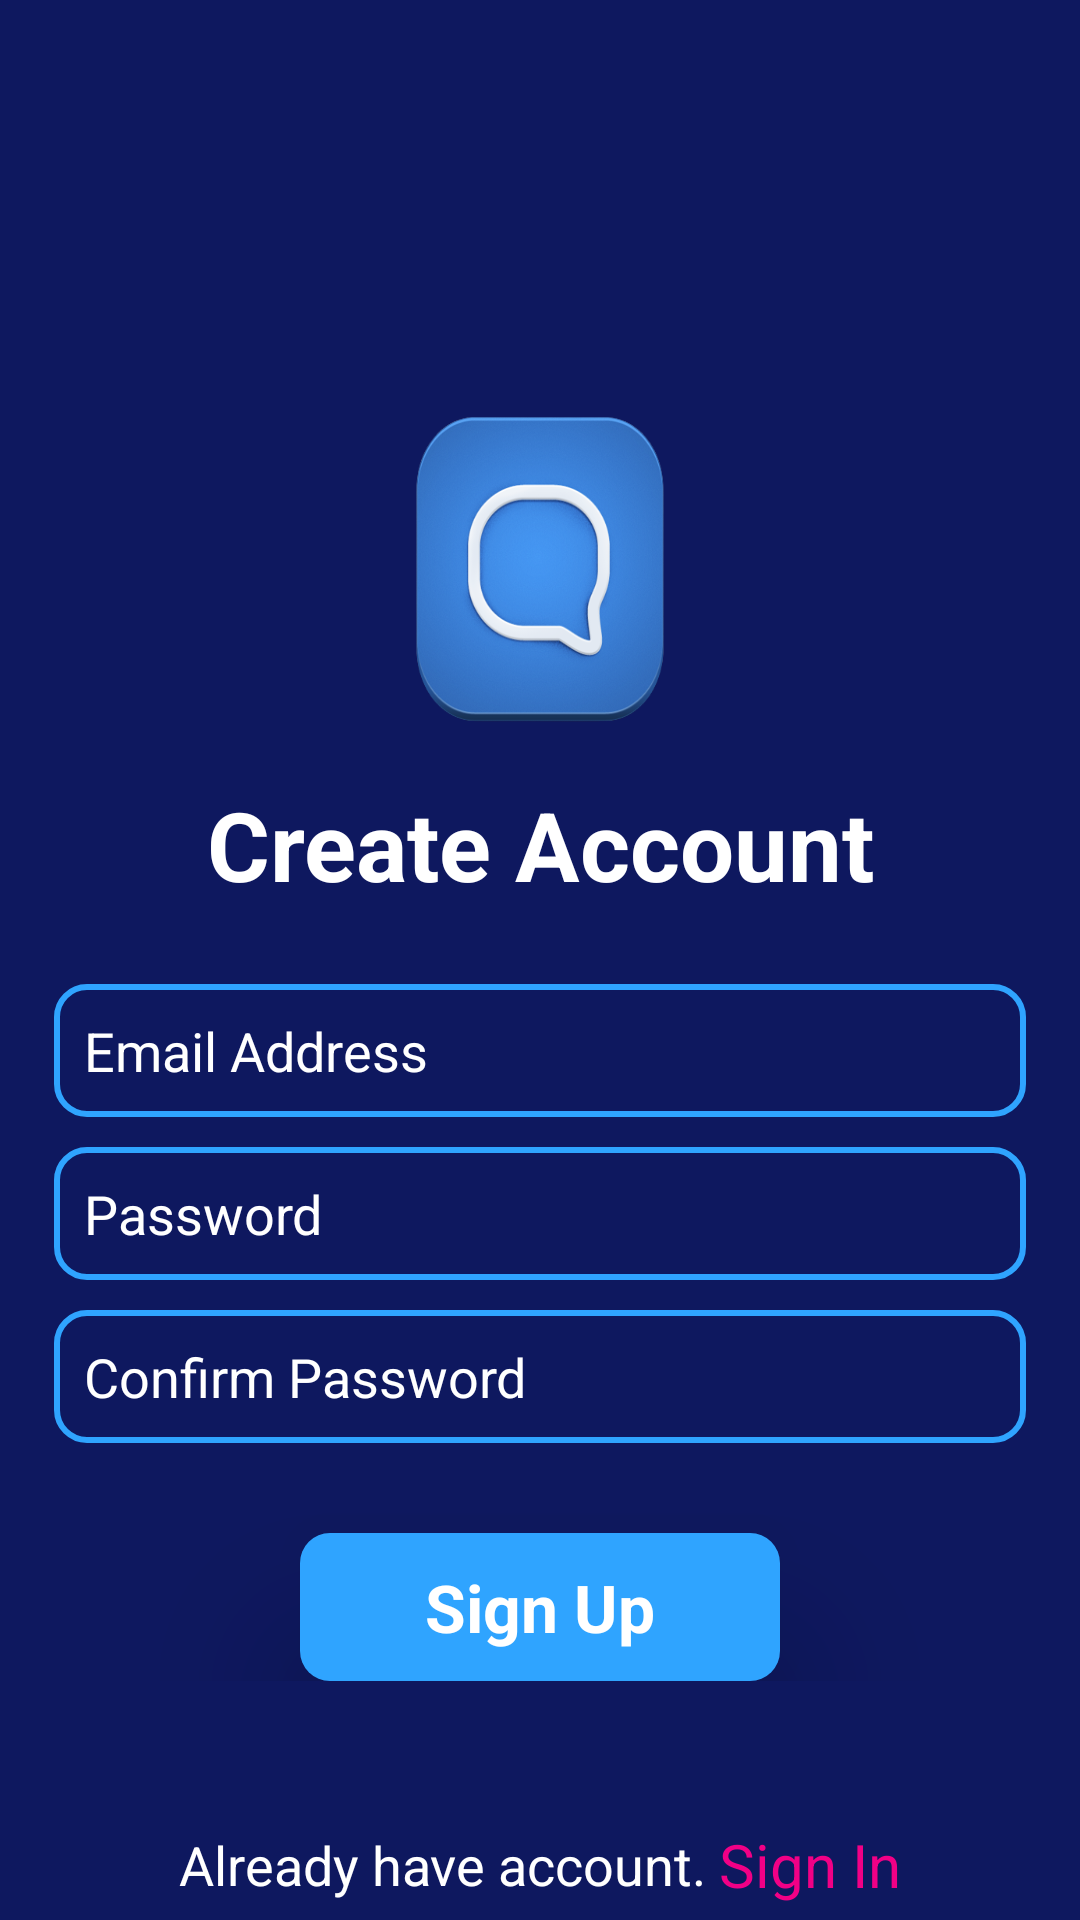

Named icons in this screenshot (1080w x 1920h) and their bounding boxes, (x1, y1, x2, y2):
chat app: (416, 417, 664, 721)
